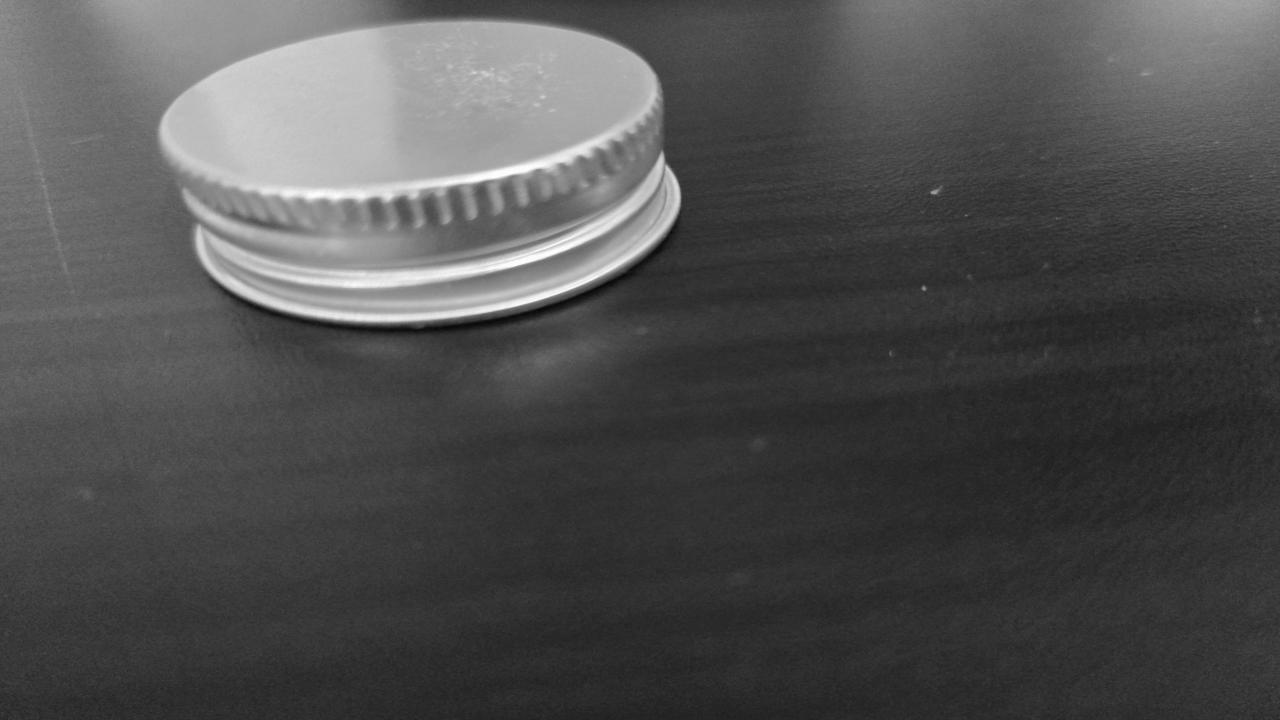bottle_cap: (156, 16, 684, 328)
